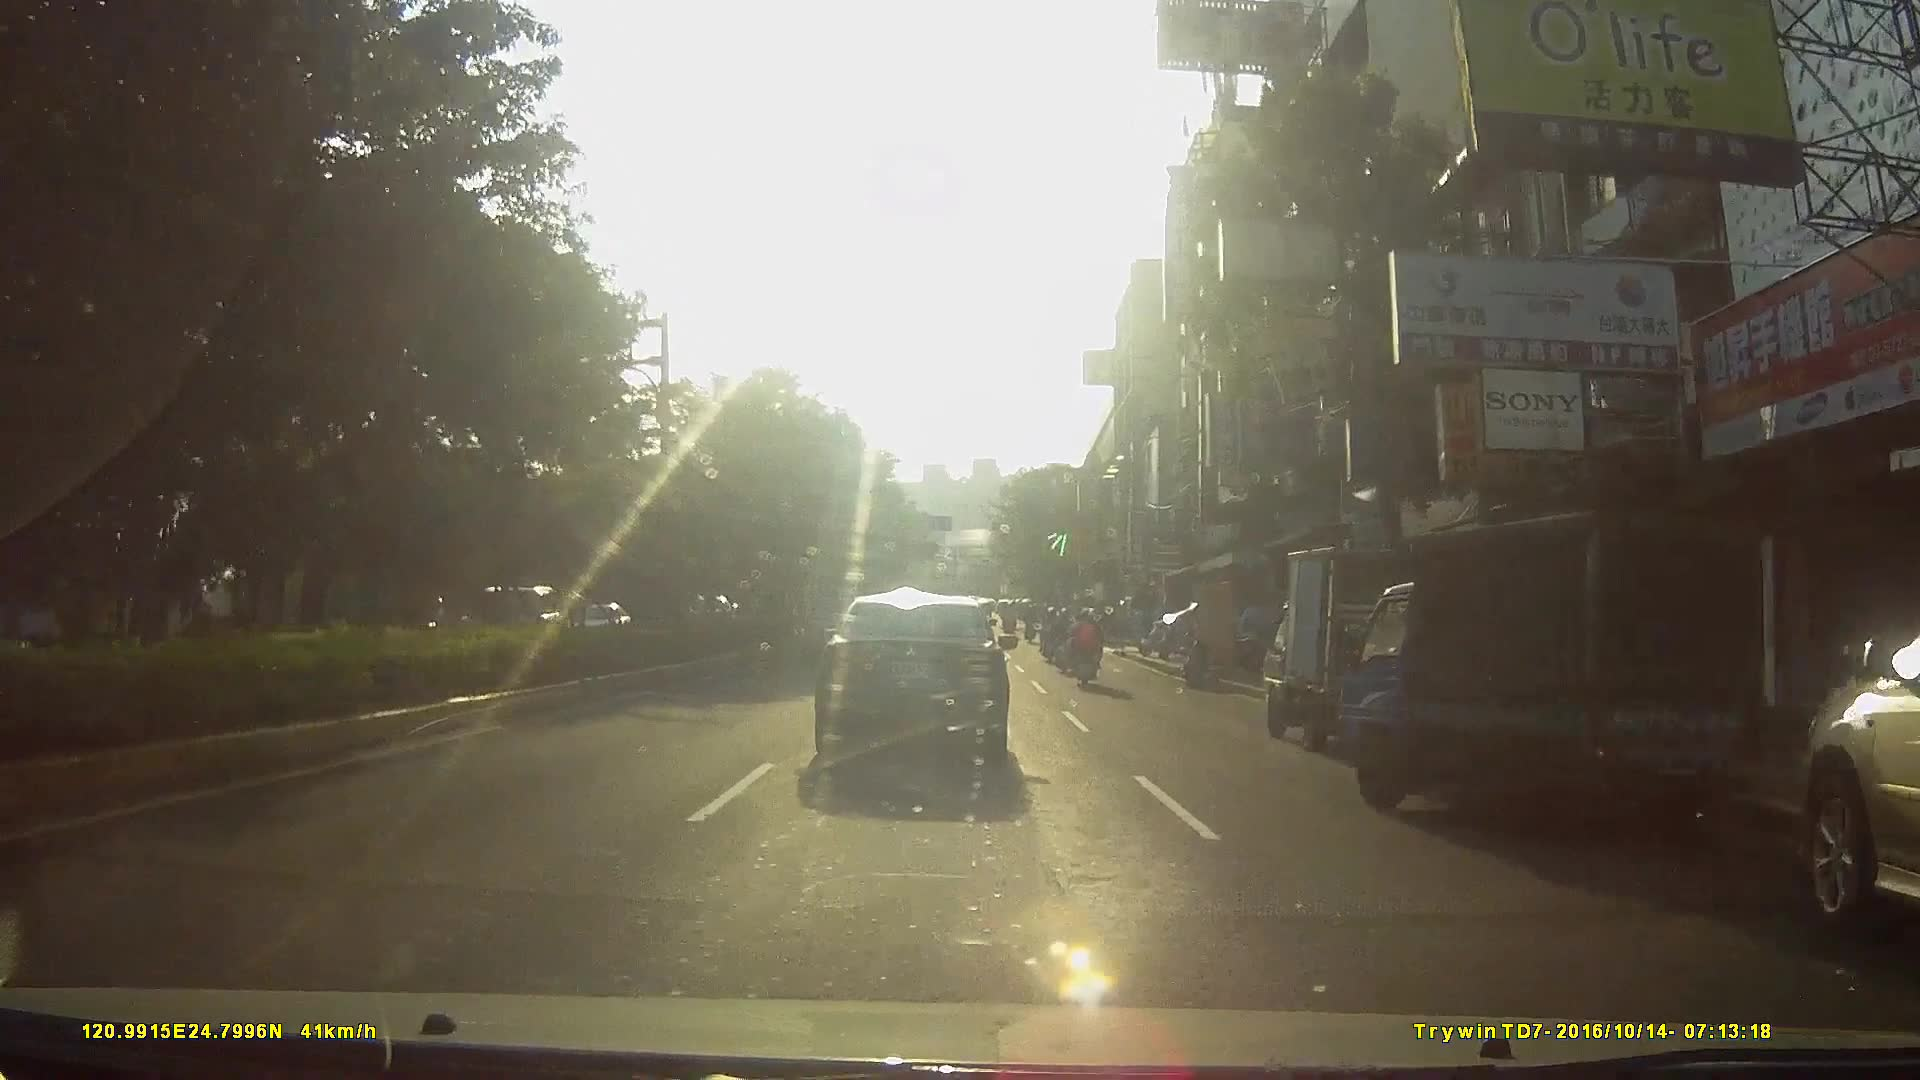rider: (1064, 607, 1107, 692), (1042, 606, 1062, 663)
vehicle: (1334, 491, 1802, 852), (1249, 533, 1497, 759), (1771, 609, 1920, 944), (812, 588, 1030, 788)
